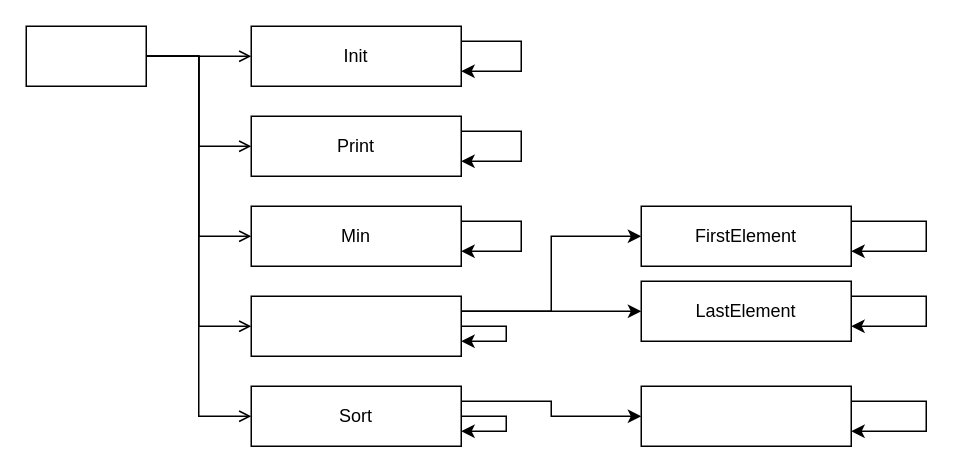
Image size: 965x473. Some labels were removed from this diagram. Here are the shapes that lost their labels. From the top down, the centre of each, then its label:
At point 85,55: "main()".
At point 355,325: "Sum".
At point 745,415: "Nadx0".
